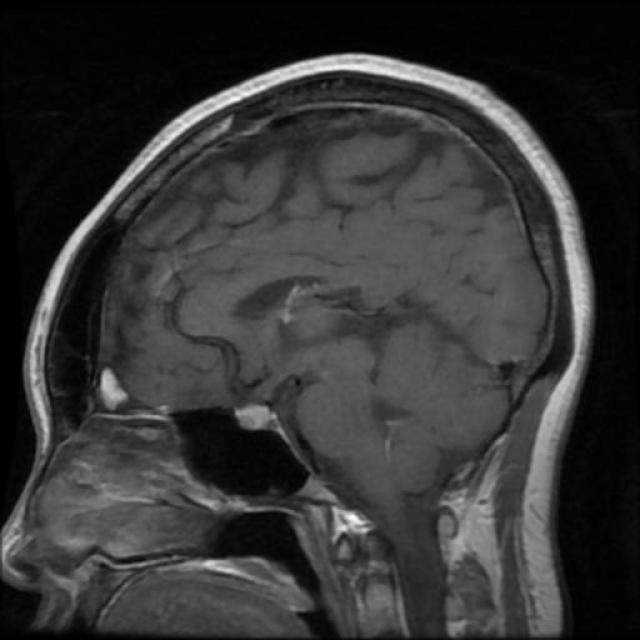pituitary: (218, 386, 322, 456)
